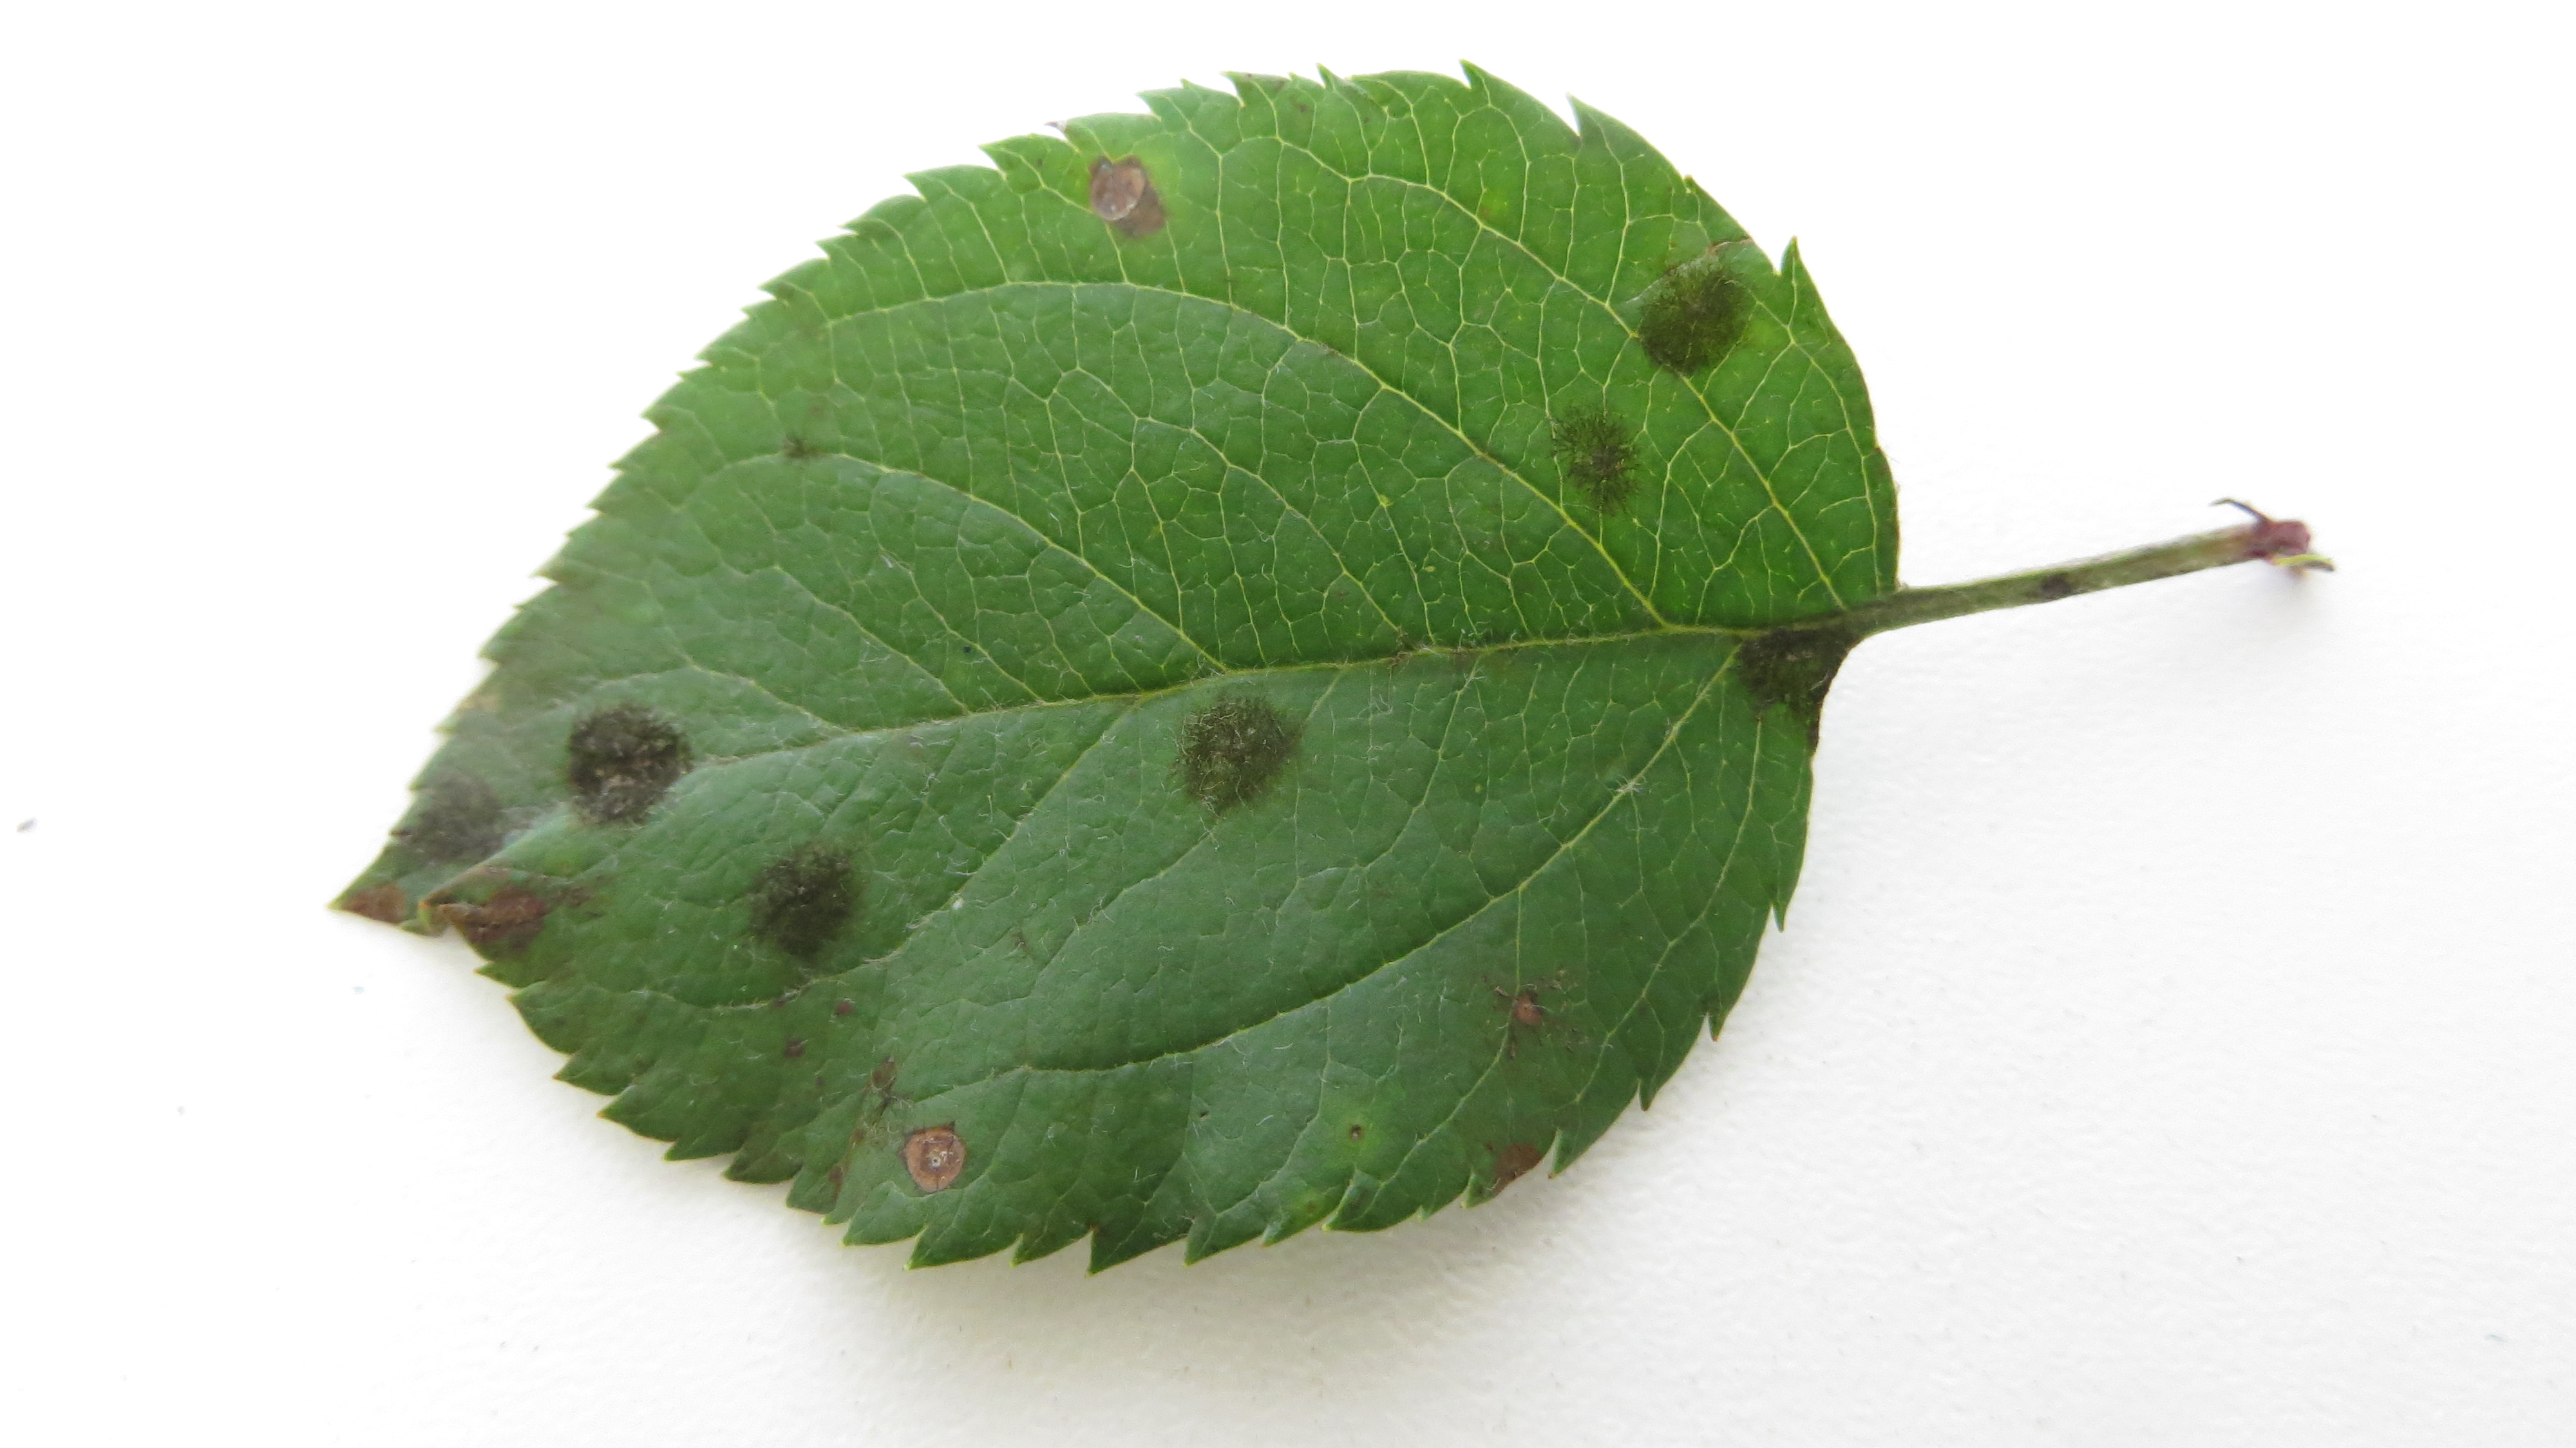sarna: (734, 825, 874, 974), (561, 701, 704, 837), (428, 864, 577, 986), (1166, 687, 1304, 813), (1727, 616, 1844, 745), (1638, 258, 1755, 386), (393, 758, 517, 867), (1532, 402, 1638, 510), (1074, 145, 1178, 255), (338, 855, 437, 945), (1483, 958, 1571, 1057), (893, 1112, 977, 1197), (1456, 1115, 1545, 1193), (840, 1043, 915, 1108), (1322, 1099, 1391, 1165), (757, 1018, 819, 1080), (766, 428, 840, 467), (819, 982, 867, 1036)
